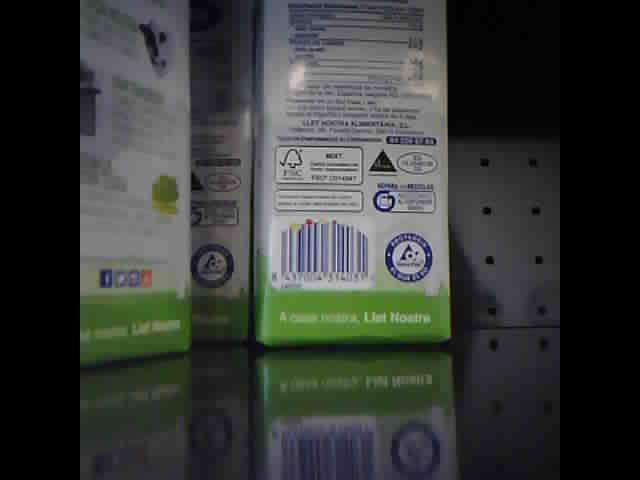leche: (253, 1, 450, 350), (82, 3, 189, 369), (188, 7, 254, 344)
